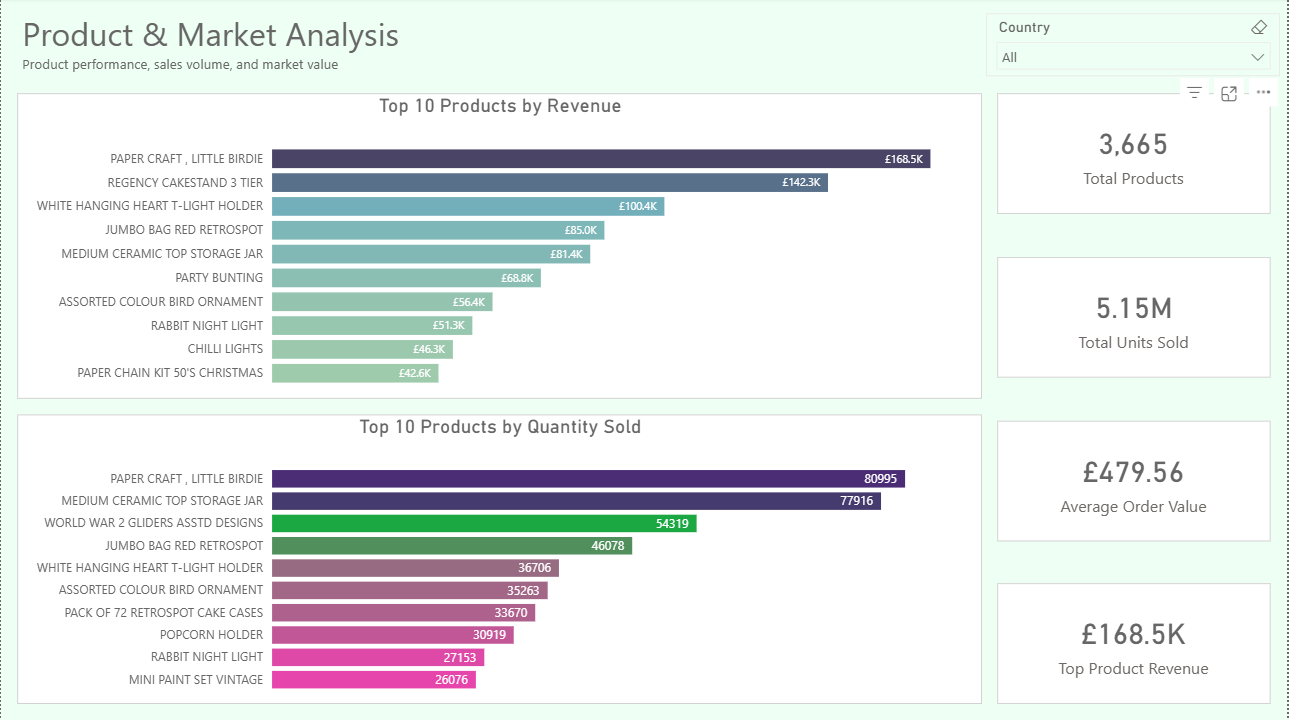

This screenshot's page, from the dashboard's own definition file:
{"tool":"powerbi","page":{"name":"Product & Market Analysis","canvas":[1280,720],"ordinal":2},"visuals":[{"type":"card","fields":{"Values":["cleaned_online_retail.Total Products"]},"box":[992,96,272,120],"z":0},{"type":"textbox","box":[16,10,400,80],"z":3000},{"type":"slicer","fields":{"Values":["cleaned_online_retail.Country"]},"box":[980,16,293,64],"z":5000},{"type":"card","fields":{"Values":["cleaned_online_retail.Total Units Sold"]},"box":[992,259,272,120],"z":6000},{"type":"card","fields":{"Values":["cleaned_online_retail.Top Product Revenue"]},"box":[992,584,272,120],"z":7000},{"type":"card","fields":{"Values":["cleaned_online_retail.Average Order Value"]},"box":[992,422,272,120],"z":8000},{"type":"clusteredBarChart","title":"Top 10 Products by Revenue","fields":{"Category":["cleaned_online_retail.Description"],"Y":["cleaned_online_retail.Sales Total Revenue"]},"box":[16,96,960,304],"z":9000},{"type":"clusteredBarChart","title":"Top 10 Products by Quantity Sold","fields":{"Category":["cleaned_online_retail.Description"],"Y":["cleaned_online_retail.Total Units Sold"]},"box":[16,416,960,288],"z":10000}]}

Visuals, with their boxes in screenshot pixels (x1, y1, x2, y2), scaled from the page's 1280x720 canvas onto the 1289x720 screenshot:
card - cleaned_online_retail.Total Products: <bbox>999, 96, 1273, 216</bbox>
textbox: <bbox>16, 10, 419, 90</bbox>
slicer - cleaned_online_retail.Country: <bbox>987, 16, 1282, 80</bbox>
card - cleaned_online_retail.Total Units Sold: <bbox>999, 259, 1273, 379</bbox>
card - cleaned_online_retail.Top Product Revenue: <bbox>999, 584, 1273, 704</bbox>
card - cleaned_online_retail.Average Order Value: <bbox>999, 422, 1273, 542</bbox>
"Top 10 Products by Revenue" clusteredBarChart: <bbox>16, 96, 983, 400</bbox>
"Top 10 Products by Quantity Sold" clusteredBarChart: <bbox>16, 416, 983, 704</bbox>
